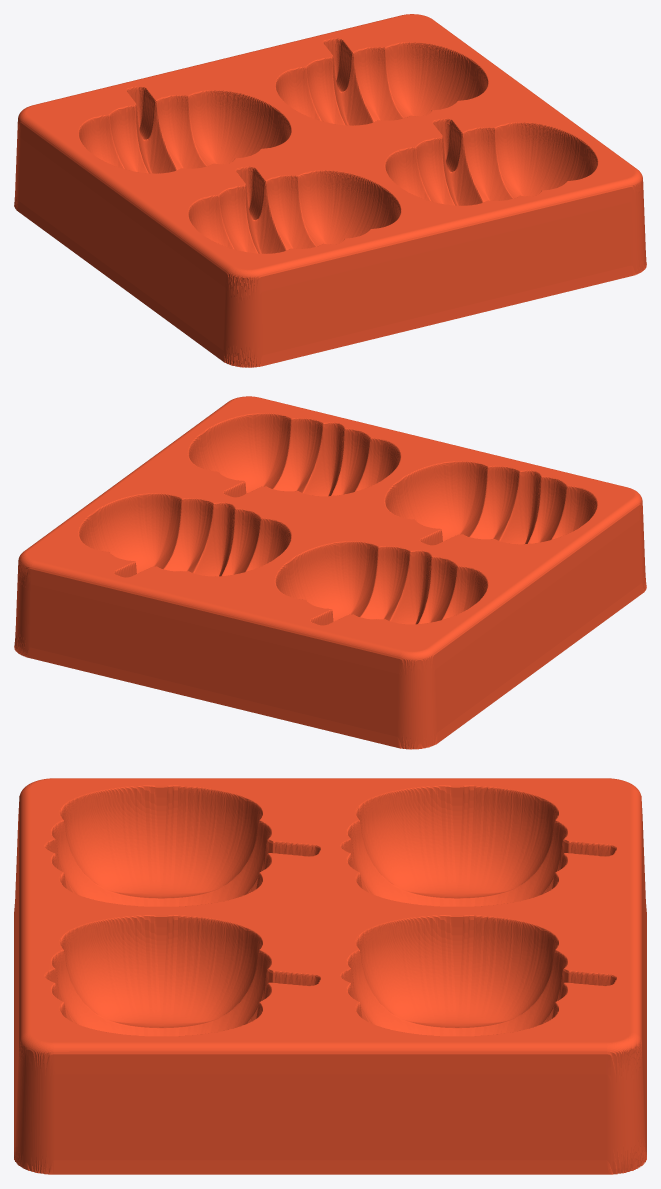
File: mold.glb
3 views of the same model, one above another, from view 1: azimuth 30°, elevation 25°; view 2: azimuth 150°, elevation 25°; view 3: azimuth 270°, elevation 25° (orthographic). The views are drawn at different scales.
Visible parts, largest first — view 1: geometry_0; view 2: geometry_0; view 3: geometry_0.
Boxes of the visible parts, x1,y1,x2,y2 form: geometry_0: [14, 14, 646, 367]; geometry_0: [14, 396, 646, 749]; geometry_0: [14, 778, 646, 1174].
Bounding box in the file's own units: 0.1466 × 0.031 × 0.1417.
